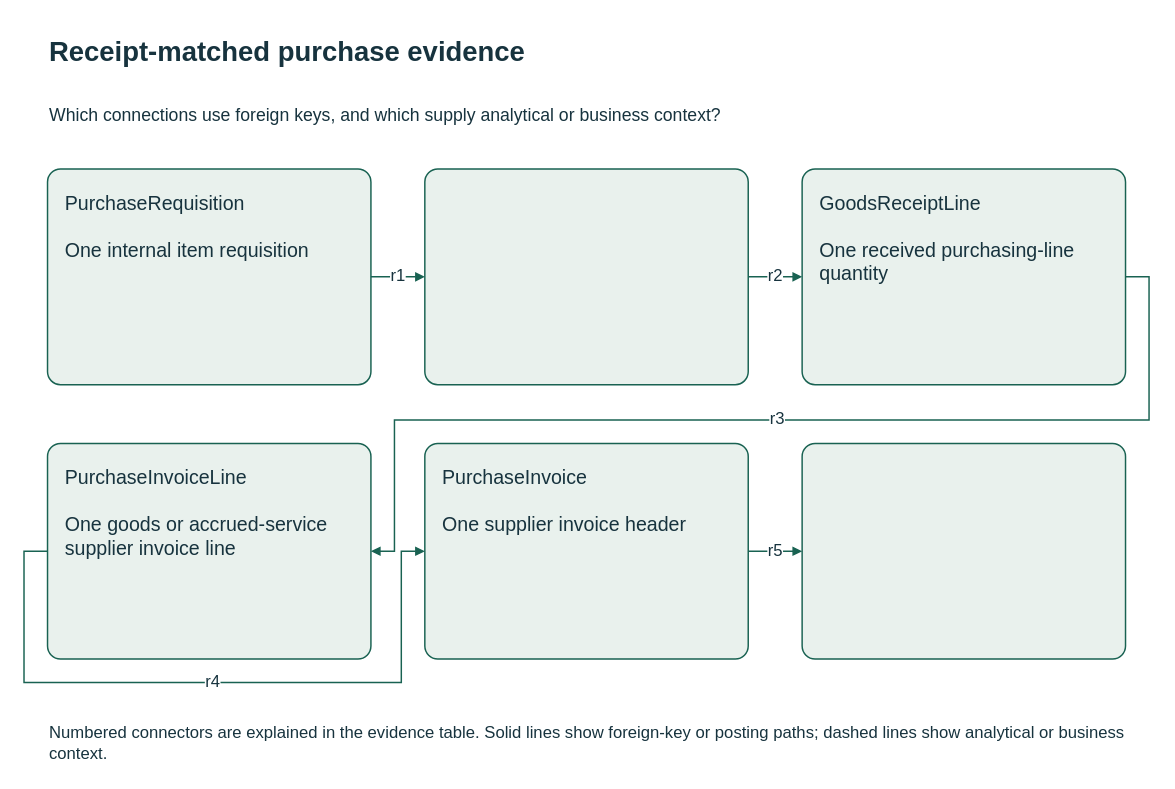
Some shapes in this 1175 by 789 pixel diagram are drawn without their labels. Each missing label, with the centre of its shape:
"DisbursementPayment One supplier invoice payment" belongs at point (963, 550).
"PurchaseOrderLine One ordered purchasing line" belongs at point (586, 276).
